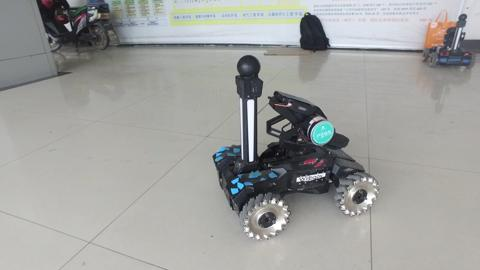bag: (297, 10, 333, 55), (426, 7, 456, 50)
chariot: (212, 52, 379, 242), (422, 12, 475, 70)
